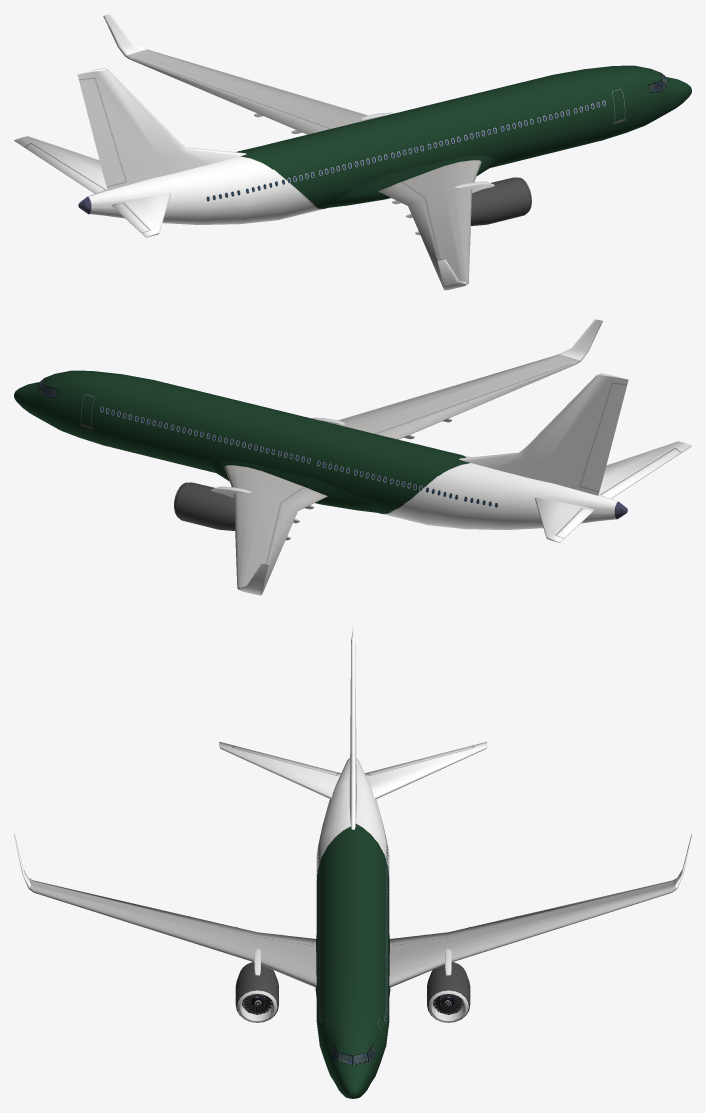
File: airliner_737.glb
3 views of the same model, one above another, from view 1: azimuth 30°, elevation 25°; view 2: azimuth 150°, elevation 25°; view 3: azimuth 270°, elevation 25° (orthographic).
Visible parts, largest first — view 1: B737; view 2: B737; view 3: B737.
Part boxes in pixels (box(x1,y1,x2,y2)): B737: box(14, 14, 691, 290); B737: box(14, 319, 691, 595); B737: box(14, 625, 691, 1098).
Size of the model in its own units: 37.87 by 11.88 by 35.74.
1 material, 1 textured.
